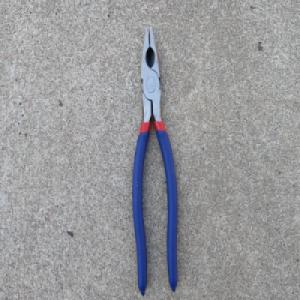Pliers: (129, 23, 177, 297)
